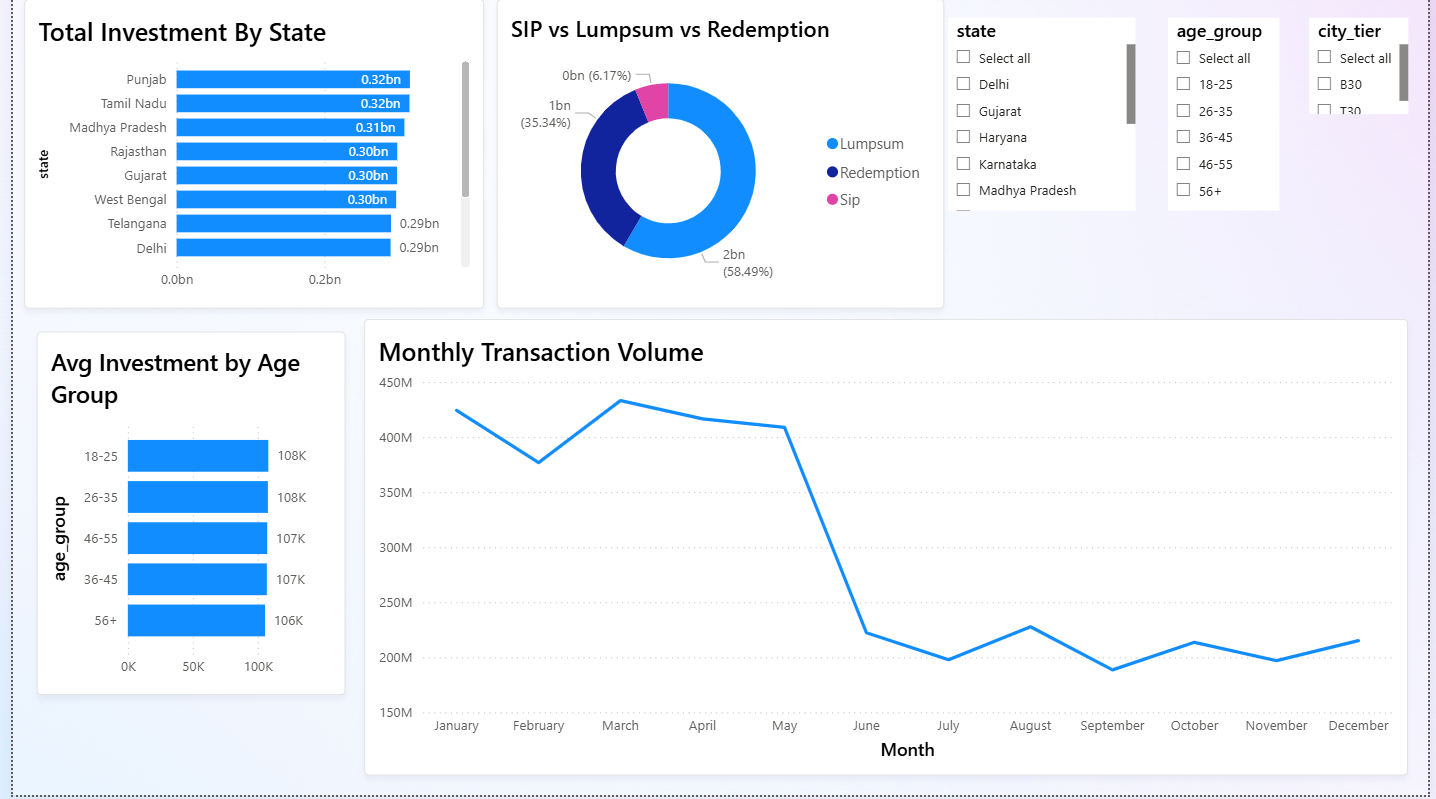

The page's visual inventory and layout, read from the dashboard file:
{"tool":"powerbi","page":{"name":"Investor Analysis","canvas":[1280,720],"ordinal":2},"visuals":[{"type":"clusteredBarChart","title":"Total Investment By State","fields":{"Category":["clean_transactions.state"],"Y":["Sum(clean_transactions.amount_inr)"]},"box":[10.5,0,416.3,280.2],"z":0},{"type":"donutChart","title":"SIP vs Lumpsum vs Redemption","fields":{"Category":["clean_transactions.transaction_type"],"Y":["Sum(clean_transactions.amount_inr)"]},"box":[437.2,0,404.7,280.2],"z":1000},{"type":"clusteredBarChart","title":"Avg Investment by Age Group","fields":{"Category":["clean_transactions.age_group"],"Y":["Avg(clean_transactions.amount_inr)"]},"box":[20.9,301.2,279.1,329.1],"z":2000},{"type":"lineChart","title":"Monthly Transaction Volume","fields":{"Category":["clean_transactions.transaction_date.Variation.Date Hierarchy.Month"],"Y":["Sum(clean_transactions.amount_inr)"]},"box":[317.4,289.5,944.2,412.8],"z":3000},{"type":"slicer","title":"State","fields":{"Values":["clean_transactions.state"]},"box":[845.4,17.4,169.8,174.4],"z":4000},{"type":"slicer","fields":{"Values":["clean_transactions.age_group"]},"box":[1044.2,17.4,101.2,174.4],"z":5000},{"type":"slicer","fields":{"Values":["clean_transactions.city_tier"]},"box":[1172.1,17.4,89.5,87.2],"z":6000}]}

Visuals, with their boxes in screenshot pixels (x1, y1, x2, y2), scaled from the page's 1280x720 canvas onto the 1436x799 screenshot:
"Total Investment By State" clusteredBarChart: 12 0 479 311
"SIP vs Lumpsum vs Redemption" donutChart: 490 0 945 311
"Avg Investment by Age Group" clusteredBarChart: 23 334 337 699
"Monthly Transaction Volume" lineChart: 356 321 1415 779
"State" slicer: 948 19 1139 213
slicer - clean_transactions.age_group: 1171 19 1285 213
slicer - clean_transactions.city_tier: 1315 19 1415 116
